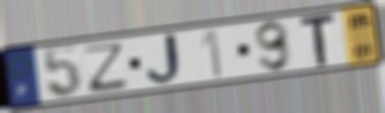1: (200, 27, 224, 81)
5: (38, 43, 86, 100)
9: (252, 19, 294, 73)
J: (144, 31, 188, 88)
T: (298, 10, 339, 69)
Z: (84, 40, 129, 95)
